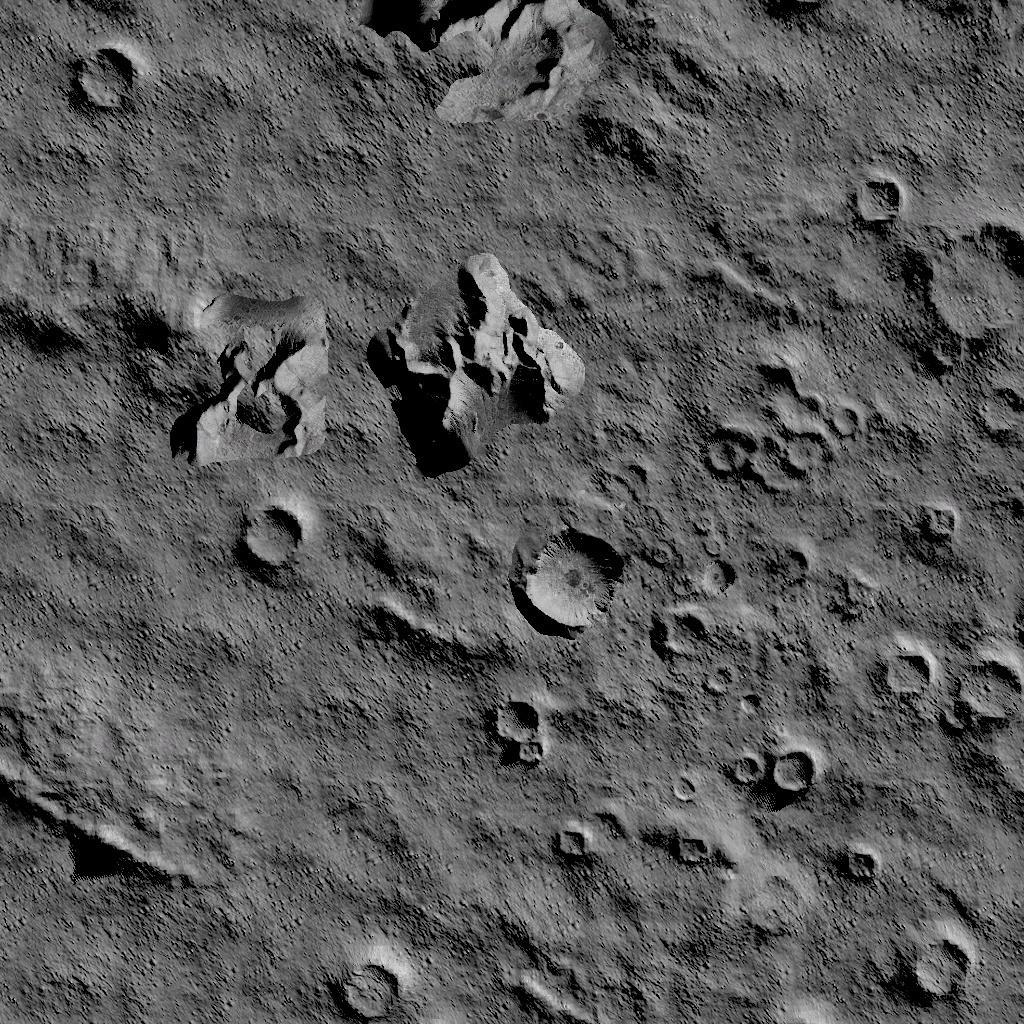Boulders: (0, 218, 334, 470), (367, 248, 590, 482), (365, 0, 630, 135), (0, 756, 198, 898), (332, 512, 504, 668)
Crater: (688, 350, 868, 492), (919, 206, 1024, 438), (863, 638, 1024, 751), (513, 514, 638, 648), (321, 942, 467, 1024), (648, 554, 740, 672), (58, 36, 152, 136), (892, 926, 986, 1016), (725, 730, 825, 812), (229, 496, 315, 590), (482, 690, 562, 775), (842, 170, 907, 237), (828, 830, 888, 902), (656, 818, 722, 879), (744, 0, 844, 31), (912, 497, 969, 551), (765, 998, 838, 1024), (545, 820, 590, 860)
Plan surface: (3, 484, 214, 726), (242, 688, 472, 900), (166, 2, 330, 200), (1, 924, 299, 1024), (763, 46, 1024, 144)
